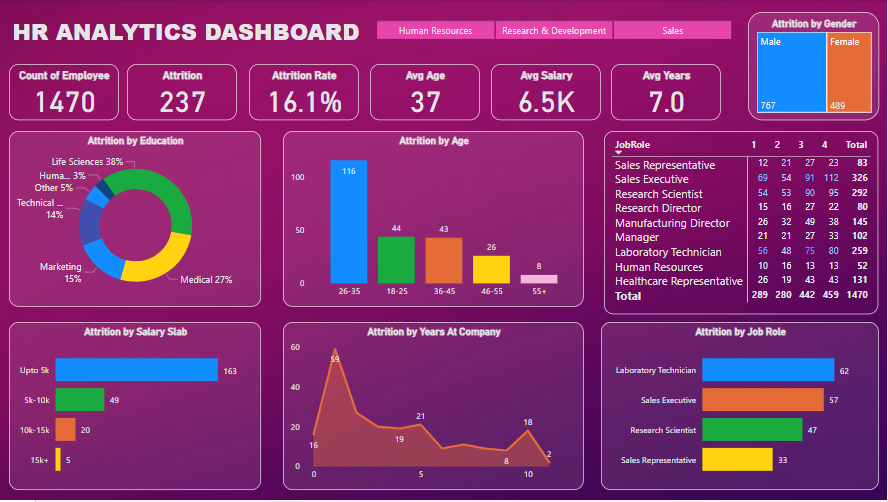

The page's visual inventory and layout, read from the dashboard file:
{"tool":"powerbi","page":{"name":"Page 1","canvas":[1280,720],"ordinal":0},"visuals":[{"type":"card","title":"Count of Employee","fields":{"Values":["CountNonNull(HR_Analytics.EmpID)"]},"box":[15.1,92.4,157.9,80.6],"z":0},{"type":"card","title":"Attrition","fields":{"Values":["Sum(HR_Analytics.AttritionCount)"]},"box":[184.8,92.4,157.9,80.6],"z":1000},{"type":"card","title":"Attrition Rate","fields":{"Values":["HR_Analytics.AttritionRate"]},"box":[359.5,92.4,157.9,80.6],"z":2000},{"type":"card","title":"Avg Age","fields":{"Values":["Avg(HR_Analytics.Age)"]},"box":[534.2,92.4,157.9,80.6],"z":3000},{"type":"card","title":"Avg Salary","fields":{"Values":["Avg(HR_Analytics.MonthlyIncome)"]},"box":[708.9,92.4,157.9,80.6],"z":4000},{"type":"card","title":"Avg Years","fields":{"Values":["Avg(HR_Analytics.YearsAtCompany)"]},"box":[881.3,92.2,158.4,80.6],"z":5000},{"type":"donutChart","title":"Attrition by Education","fields":{"Category":["HR_Analytics.EducationField"],"Y":["Sum(HR_Analytics.AttritionCount)"]},"box":[14.4,188.6,362.9,253.4],"z":6000},{"type":"columnChart","title":"Attrition by Age","fields":{"Category":["HR_Analytics.AgeGroup"],"Y":["Sum(HR_Analytics.AttritionCount)"]},"box":[409,188.6,433.4,253.4],"z":7000},{"type":"pivotTable","fields":{"Rows":["HR_Analytics.JobRole"],"Columns":["HR_Analytics.JobSatisfaction"],"Values":["CountNonNull(HR_Analytics.AttritionCount)"]},"box":[871.2,188.6,394.6,263.5],"z":8000},{"type":"barChart","title":"Attrition by Salary Slab","fields":{"Category":["HR_Analytics.SalarySlab"],"Y":["Sum(HR_Analytics.AttritionCount)"]},"box":[15.1,463.6,362.8,241.9],"z":9000},{"type":"barChart","title":"Attrition by Job Role","fields":{"Category":["HR_Analytics.JobRole"],"Y":["Sum(HR_Analytics.AttritionCount)"]},"box":[866.9,463.7,400.3,241.9],"z":10000},{"type":"areaChart","title":"Attrition by Years At Company","fields":{"Category":["HR_Analytics.YearsAtCompany"],"Y":["Sum(HR_Analytics.AttritionCount)"]},"box":[409,463.7,433.4,241.9],"z":11000},{"type":"treemap","title":"Attrition by Gender","fields":{"Group":["HR_Analytics.Gender"],"Values":["CountNonNull(HR_Analytics.AttritionCount)"]},"box":[1078.6,17.3,188.6,155.5],"z":12000},{"type":"slicer","fields":{"Values":["HR_Analytics.Department"]},"box":[518.4,23,560.2,38.9],"z":13000},{"type":"textbox","box":[15.1,16.8,534.2,57.1],"z":14000}]}

Visuals, with their boxes in screenshot pixels (x1, y1, x2, y2), scaled from the page's 1280x720 canvas onto the 888x502 screenshot:
"Count of Employee" card: 10/64/120/121
"Attrition" card: 128/64/238/121
"Attrition Rate" card: 249/64/359/121
"Avg Age" card: 371/64/480/121
"Avg Salary" card: 492/64/601/121
"Avg Years" card: 611/64/721/120
"Attrition by Education" donutChart: 10/131/262/308
"Attrition by Age" columnChart: 284/131/584/308
pivotTable - HR_Analytics.JobRole x HR_Analytics.JobSatisfaction: 604/131/878/315
"Attrition by Salary Slab" barChart: 10/323/262/492
"Attrition by Job Role" barChart: 601/323/879/492
"Attrition by Years At Company" areaChart: 284/323/584/492
"Attrition by Gender" treemap: 748/12/879/120
slicer - HR_Analytics.Department: 360/16/748/43
textbox: 10/12/381/52
